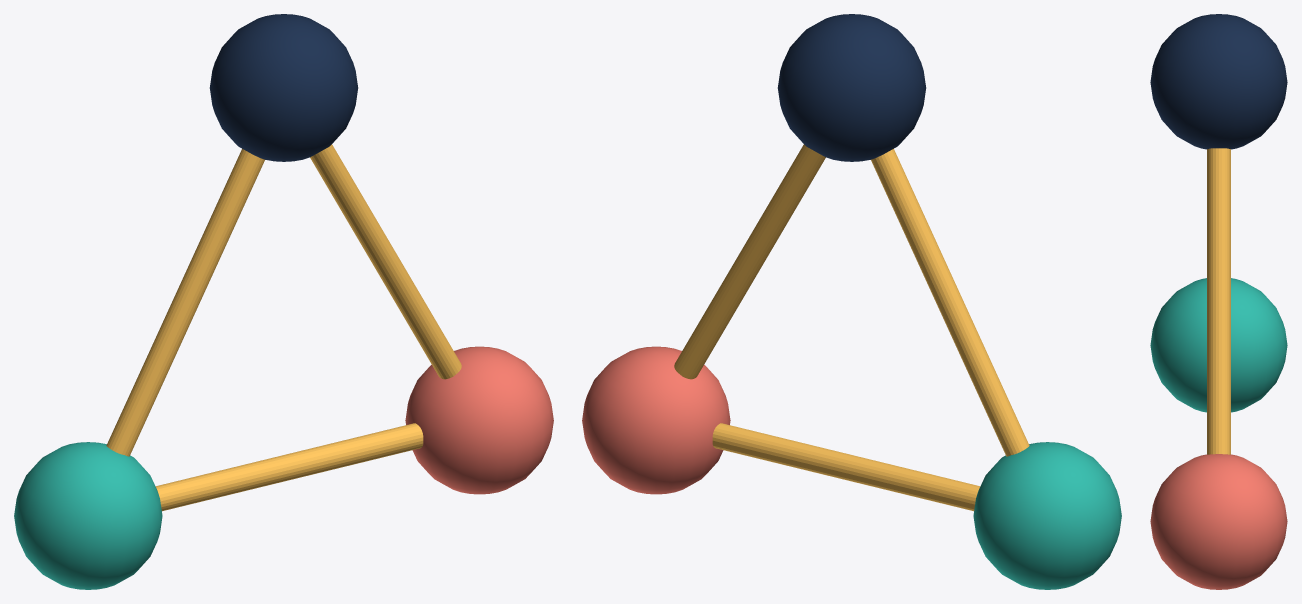
File: EDU008.glb
The picture shows the model from 3 angles, left to right: view 1: azimuth 30°, elevation 25°; view 2: azimuth 150°, elevation 25°; view 3: azimuth 270°, elevation 25°; orthographic projection. The views are drawn at different scales.
Parts seen in each view (by area): view 1: EDU008, Editable_link_2, Editable_link_0, Editable_link_1; view 2: EDU008, Editable_link_2, Editable_link_0, Editable_link_1; view 3: EDU008, Editable_link_1.
Boxes of the visible parts, left/top/right/bottom form: EDU008: left=14, top=14, right=553, bottom=589; Editable_link_2: left=106, top=149, right=264, bottom=456; Editable_link_0: left=155, top=423, right=423, bottom=511; Editable_link_1: left=310, top=144, right=461, bottom=379; EDU008: left=582, top=14, right=1121, bottom=589; Editable_link_2: left=871, top=149, right=1029, bottom=456; Editable_link_0: left=712, top=423, right=980, bottom=511; Editable_link_1: left=674, top=144, right=825, bottom=379; EDU008: left=1150, top=14, right=1287, bottom=589; Editable_link_1: left=1207, top=148, right=1230, bottom=454.
Bounding box in the file's own units: 1.86 × 1.76 × 0.46.
